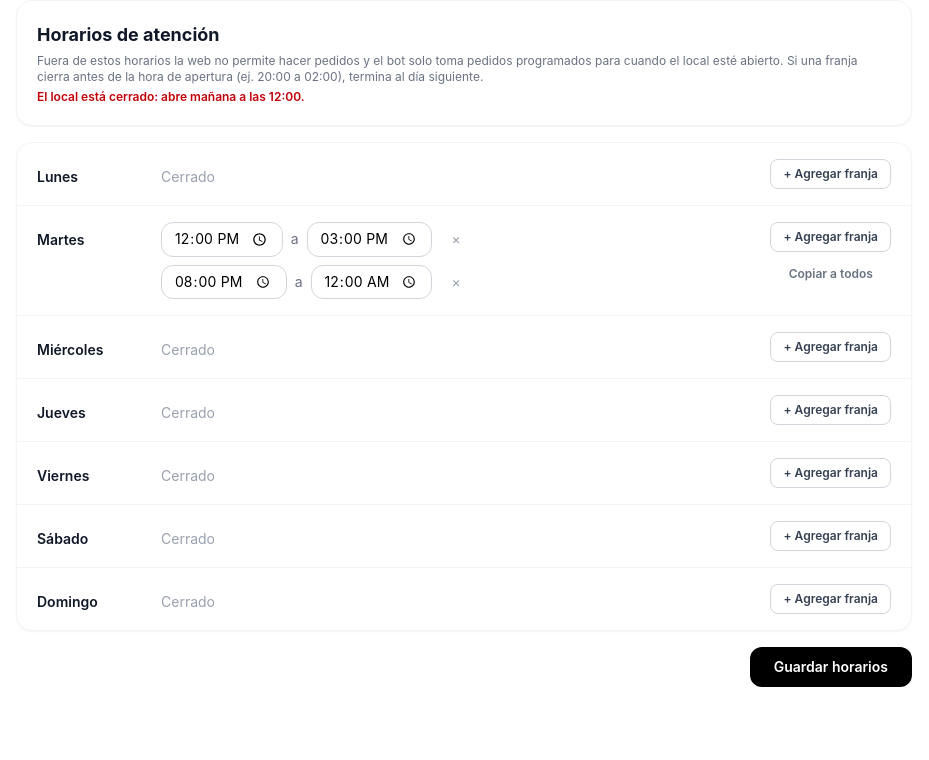
HorariosView › muestra el error del servidor al guardar
Expected: the element "Martes" is shown, top-left (17, 206), bottom-right (911, 316)
Click the button "Guardar horarios". click: click(831, 667)
box: top-left (750, 647), bottom-right (912, 687)
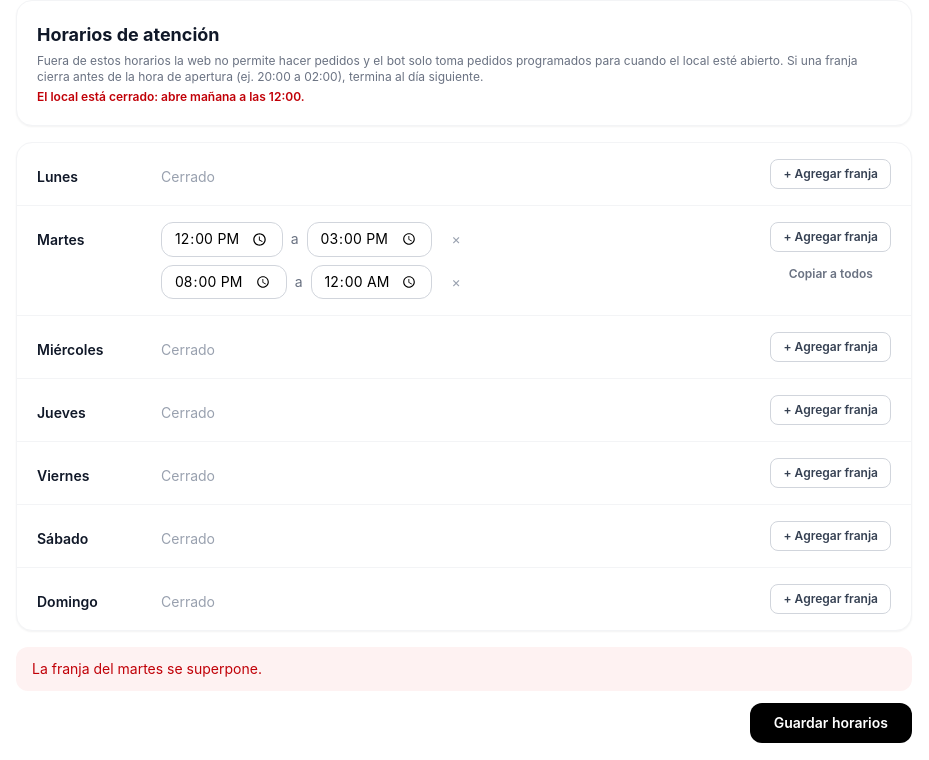
Now the message reads "La franja del martes se superpone.", box top-left (32, 660), bottom-right (262, 677)
